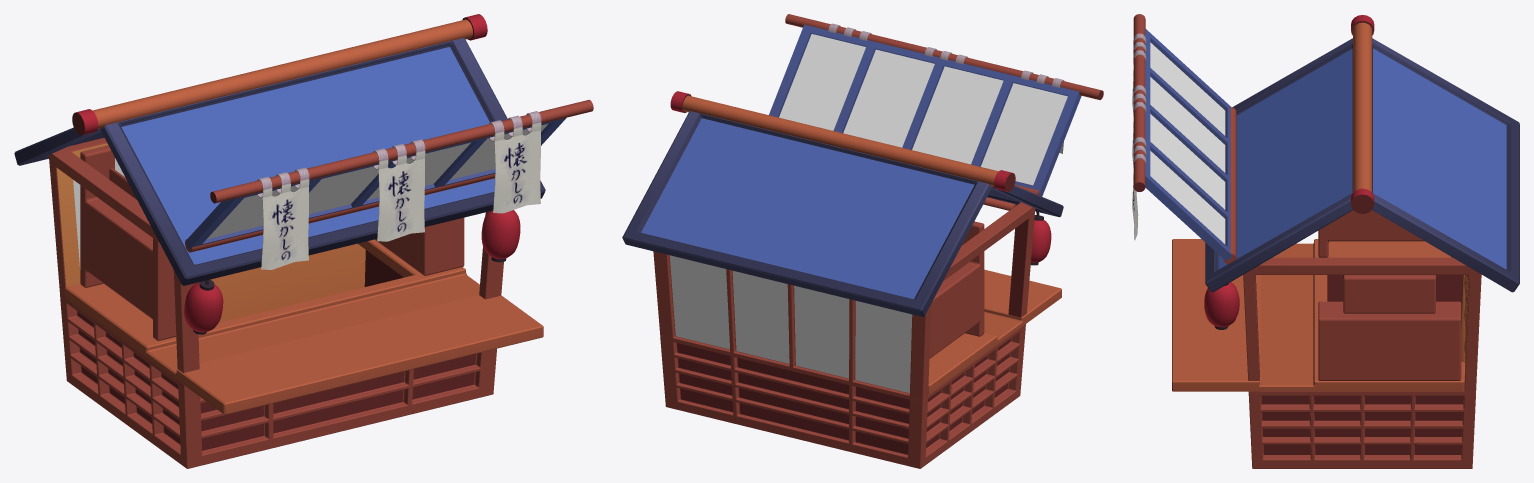
Rendered from NEWSHOP.fbx.
3 views of the same model, side by side, from view 1: azimuth 30°, elevation 25°; view 2: azimuth 150°, elevation 25°; view 3: azimuth 270°, elevation 25° (orthographic). The views are drawn at different scales.
Visible parts, largest first — view 1: Plane, Cube.003, Cube.004, Cube.006, JapanHouse.001, Plane.002, Cylinder.001, Cylinder.002, Sphere.001, Sphere.002, Cylinder.003; view 2: Cube.003, Plane, Plane.002, Cylinder.001, Cube.004, Cube.006, Cylinder.002, Sphere.001, JapanHouse.001; view 3: Plane, Cube.003, Cube.004, Cube.006, Plane.002, Cylinder.001, Cylinder.002, Sphere.002, Cylinder.003, JapanHouse.001.
Boxes of the visible parts, left/top/right/bottom form: Plane: left=14, top=38, right=545, bottom=285; Cube.003: left=48, top=137, right=503, bottom=468; Cube.004: left=65, top=239, right=543, bottom=414; Cube.006: left=80, top=145, right=464, bottom=340; JapanHouse.001: left=257, top=111, right=541, bottom=269; Plane.002: left=185, top=117, right=566, bottom=249; Cylinder.001: left=72, top=14, right=487, bottom=135; Cylinder.002: left=210, top=100, right=593, bottom=203; Sphere.001: left=184, top=279, right=223, bottom=334; Sphere.002: left=481, top=210, right=520, bottom=262; Cylinder.003: left=185, top=173, right=494, bottom=252; Cube.003: left=653, top=202, right=1035, bottom=468; Plane: left=622, top=111, right=1063, bottom=316; Plane.002: left=769, top=24, right=1081, bottom=196; Cylinder.001: left=670, top=91, right=1015, bottom=191; Cube.004: left=928, top=269, right=1061, bottom=394; Cube.006: left=929, top=221, right=984, bottom=358; Cylinder.002: left=785, top=14, right=1103, bottom=99; Sphere.001: left=1030, top=211, right=1051, bottom=265; JapanHouse.001: left=828, top=23, right=1064, bottom=153; Plane: left=1205, top=38, right=1519, bottom=292; Cube.003: left=1243, top=257, right=1481, bottom=468; Cube.004: left=1172, top=239, right=1464, bottom=391; Cube.006: left=1318, top=210, right=1461, bottom=380; Plane.002: left=1145, top=28, right=1232, bottom=261; Cylinder.001: left=1351, top=15, right=1374, bottom=213; Cylinder.002: left=1133, top=14, right=1145, bottom=191; Sphere.002: left=1204, top=282, right=1239, bottom=329; Cylinder.003: left=1223, top=107, right=1236, bottom=263; JapanHouse.001: left=1132, top=33, right=1146, bottom=240.
Bounding box in the file's own units: 23.93 × 21.82 × 18.86.
